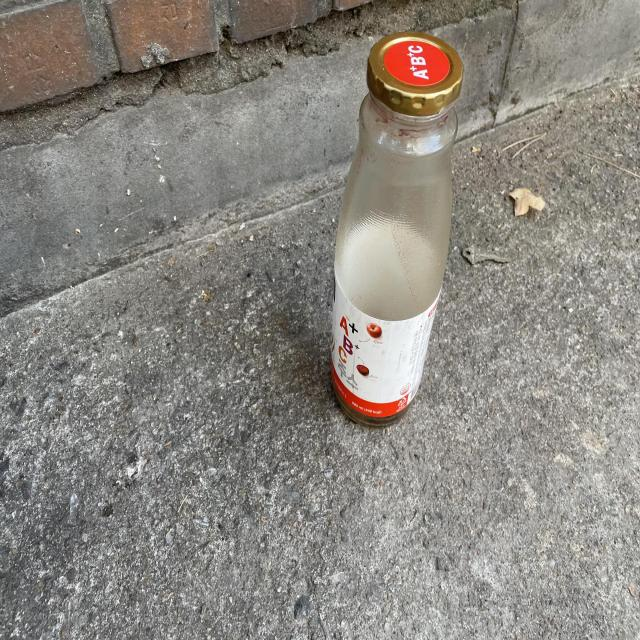glass: (331, 31, 464, 425)
